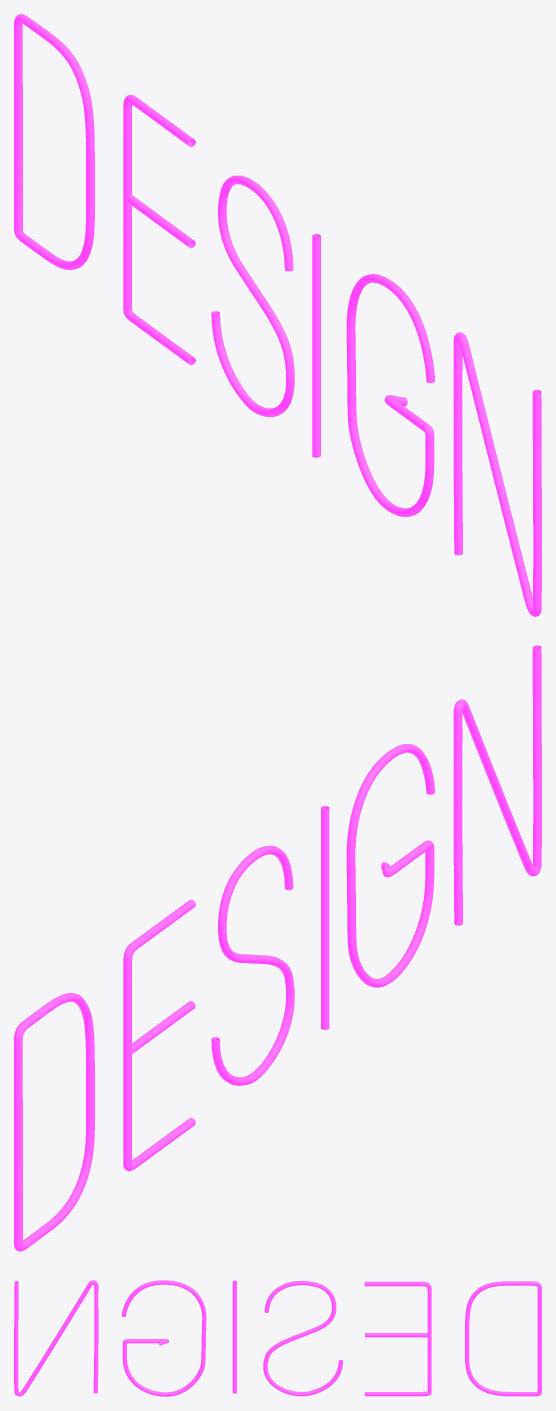
File: NeonSign.glb
3 views of the same model, one above another, from view 1: azimuth 30°, elevation 25°; view 2: azimuth 150°, elevation 25°; view 3: azimuth 270°, elevation 25° (orthographic). The views are drawn at different scales.
Parts seen in each view (by area): view 1: Text.002; view 2: Text.002; view 3: Text.002.
Boxes of the visible parts, box(x1,y1,x2,y2) form: Text.002: box(14, 14, 541, 616); Text.002: box(14, 645, 541, 1251); Text.002: box(14, 1280, 541, 1396).
Size of the model in its own units: 0.0513 by 0.5741 by 2.37.
